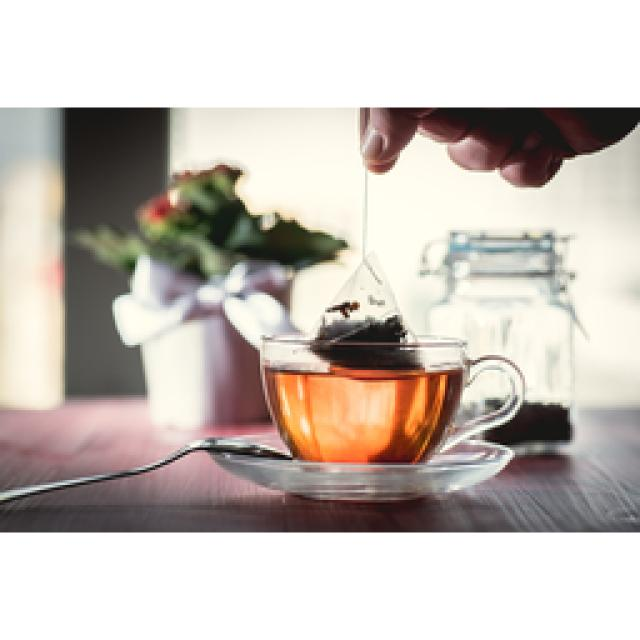tea-bags: (310, 254, 419, 368)
